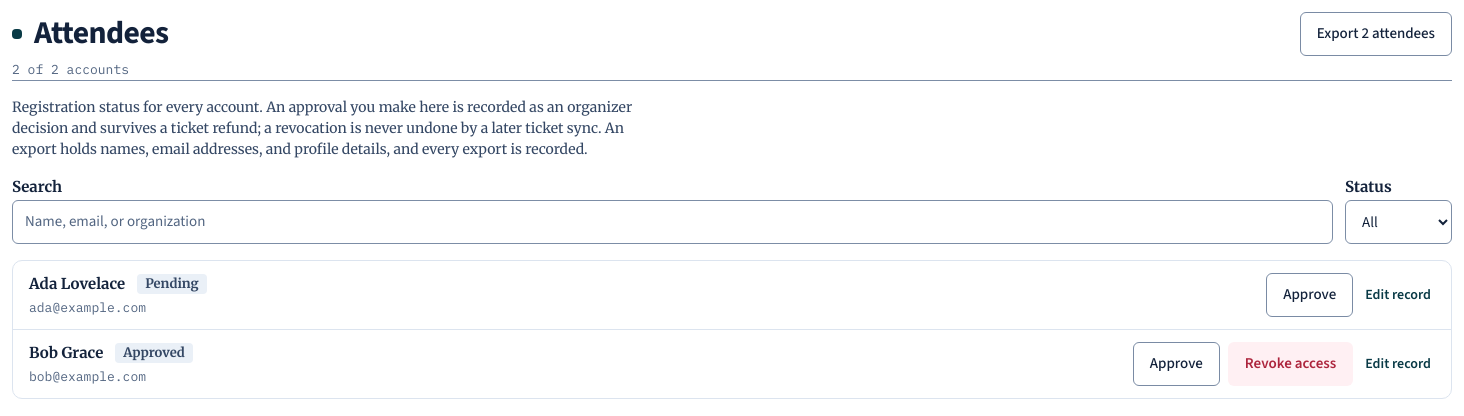
Scenario: AdminAttendees › filters by status and searches by name or email
The width and height of the screenshot is (1464, 416).
Select "Approved" in the dropdown labelled "Status": point(1398, 222) [1345,200,1452,244]
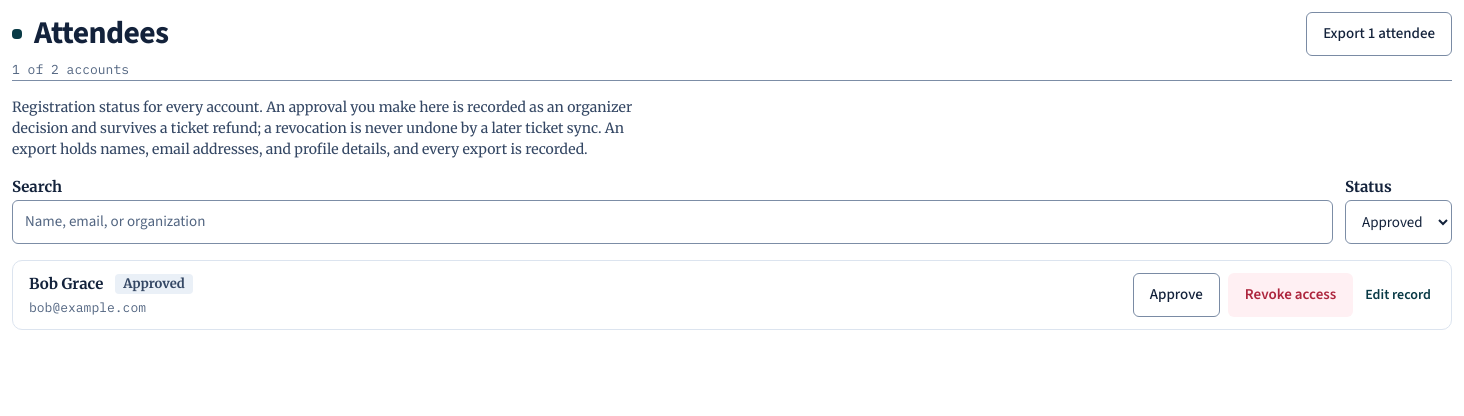
Expected: the text "Bob Grace" is shown, [29,273,103,296]
Now the number of list items is 1, box [13,261,1451,329]
Select "All" in the dropdown labelled "Status": point(1398, 222) [1345,200,1452,244]
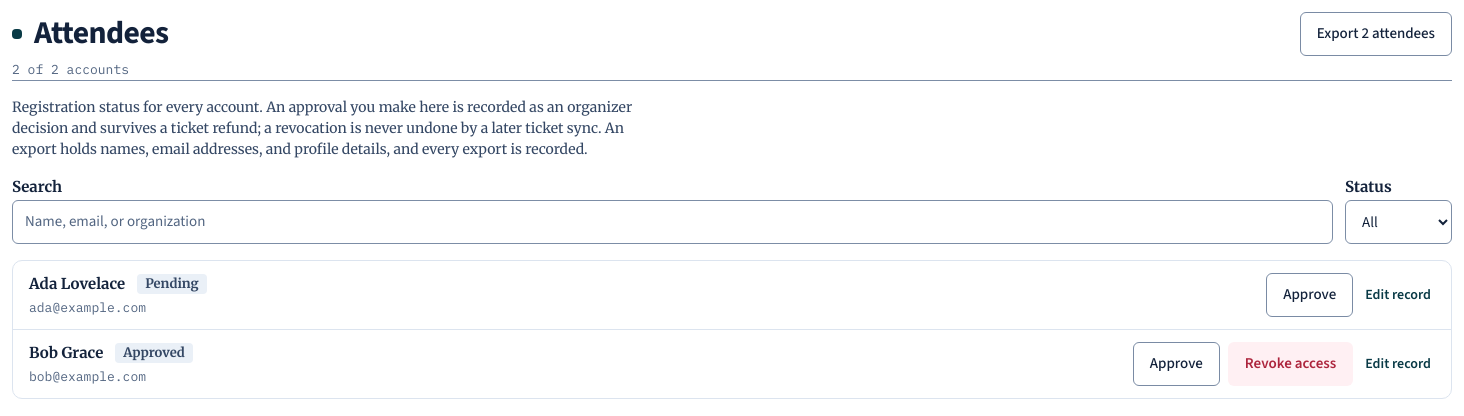
In the search field labelled "Search": point(672, 222) [12,200,1333,244], type "ada@"
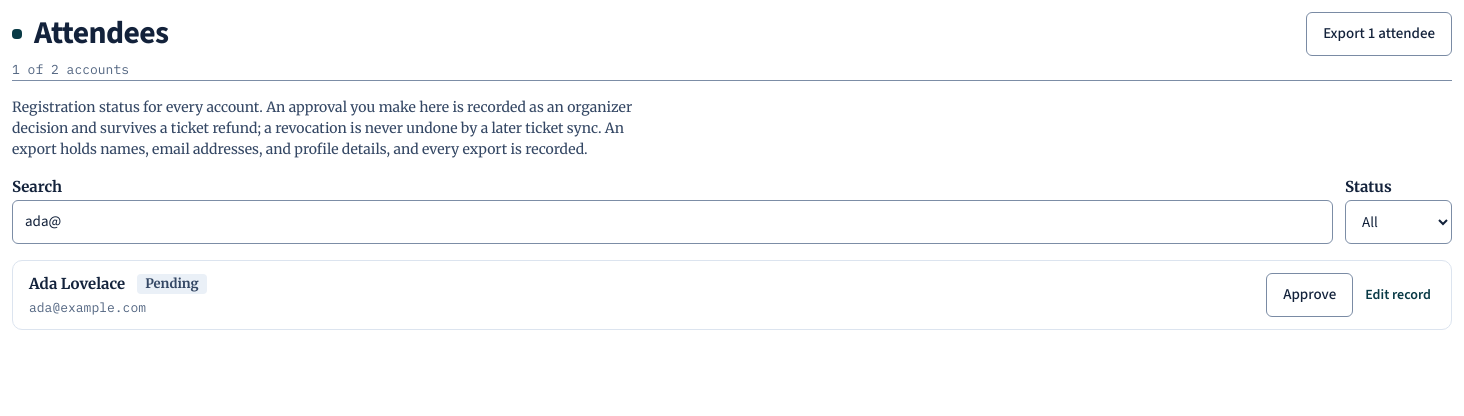
Now the text "Ada Lovelace" is shown, box [29,273,125,296]
Now the number of list items is 1, box [13,261,1451,329]
